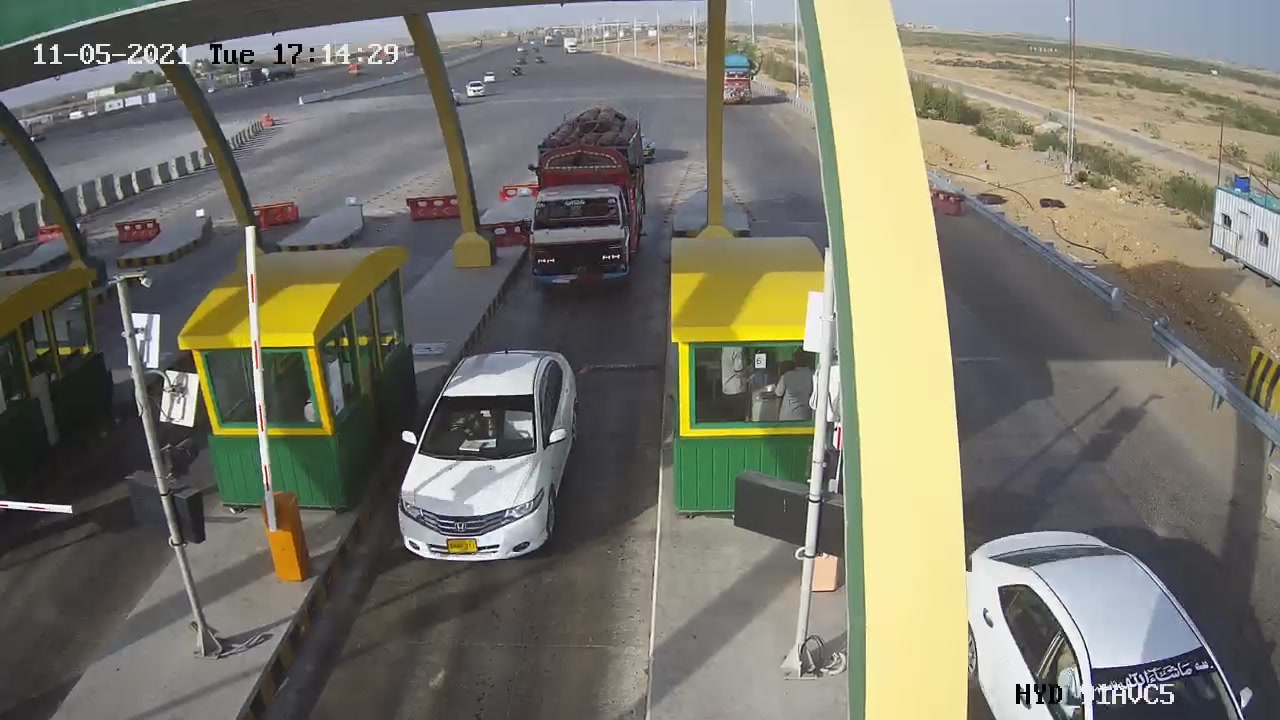F1: (382, 334, 600, 585)
F5: (507, 100, 655, 287)
